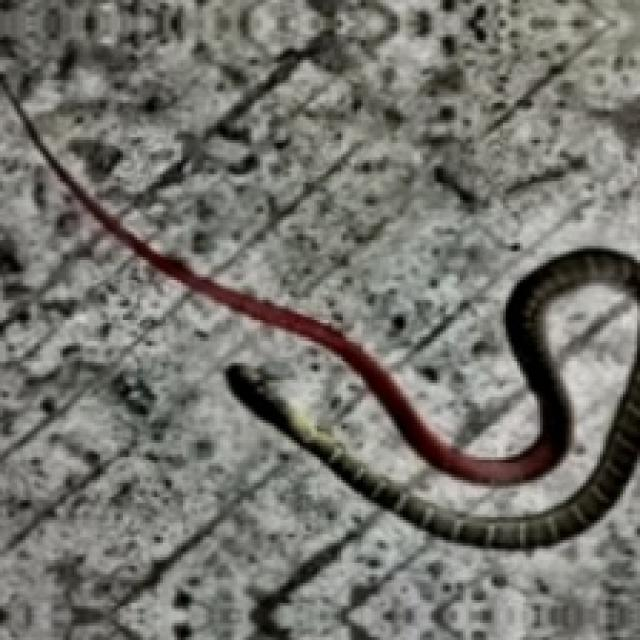reddish rat snake: (0, 74, 637, 483), (226, 334, 637, 549)
